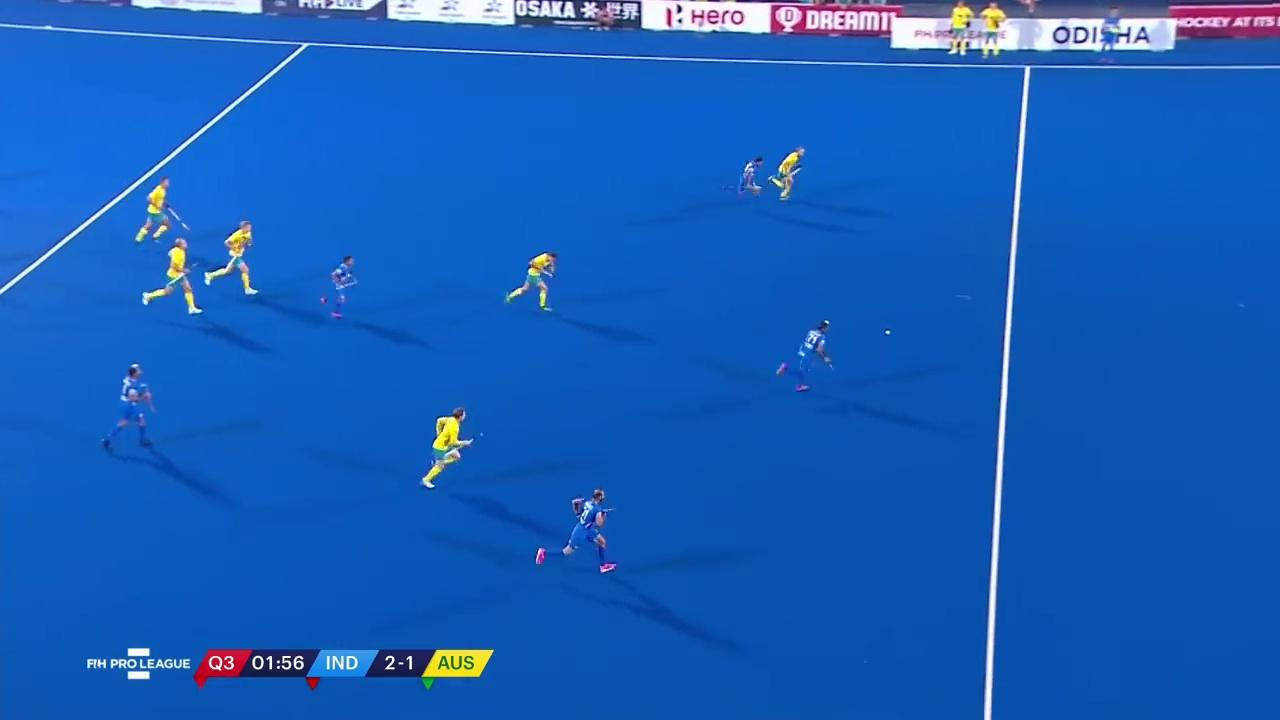ball: (881, 327, 895, 338)
